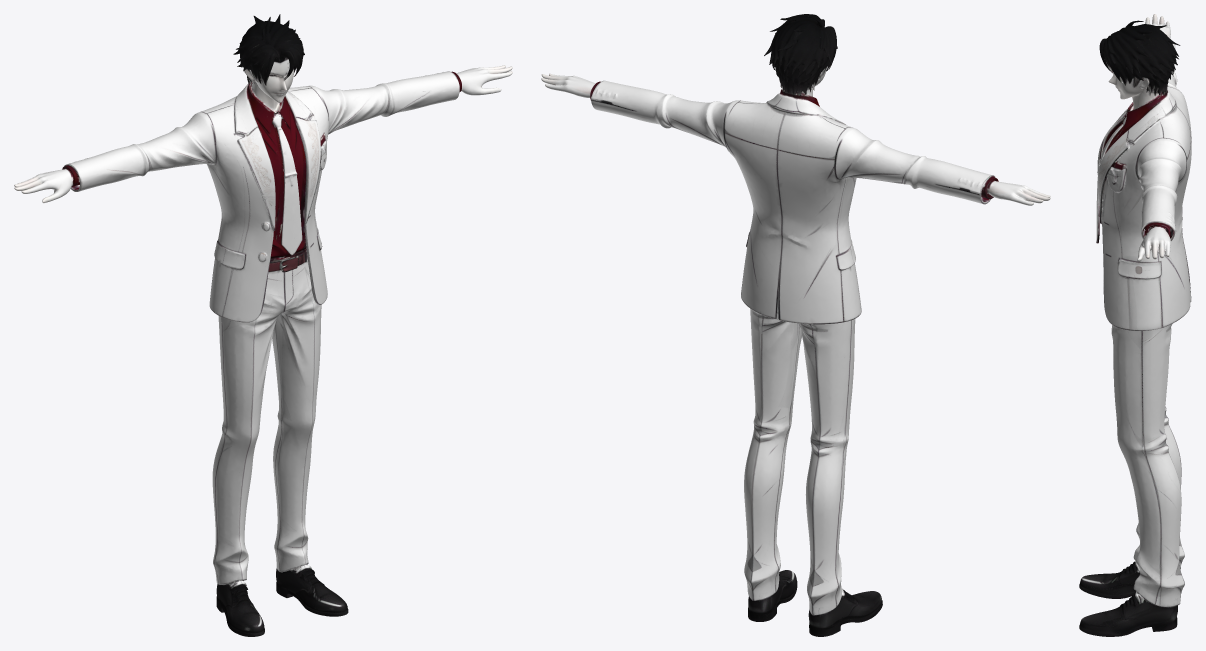
The model's file is Meshy_AI_White_Suit_Gentleman__0728055200_texture.fbx.
The picture shows the model from 3 angles, left to right: view 1: azimuth 30°, elevation 25°; view 2: azimuth 150°, elevation 25°; view 3: azimuth 270°, elevation 25°; orthographic projection. The views are drawn at different scales.
Parts seen in each view (by area): view 1: mesh_node; view 2: mesh_node; view 3: mesh_node.
Part boxes in pixels (x1,y1,x2,y2): mesh_node: [14, 14, 512, 636]; mesh_node: [541, 14, 1050, 636]; mesh_node: [1079, 14, 1191, 636].
Size of the model in its own units: 168 by 190 by 32.8.
Materials: 1 (1 with a texture image).
